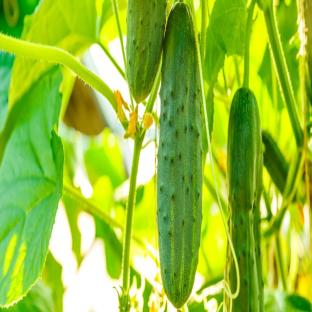Cucumber: (157, 2, 202, 308), (227, 88, 263, 311), (263, 131, 289, 193)
